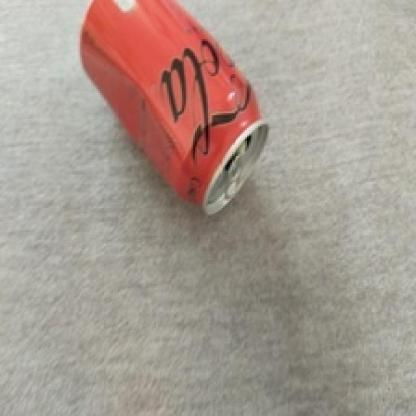Can: (81, 0, 267, 216)
